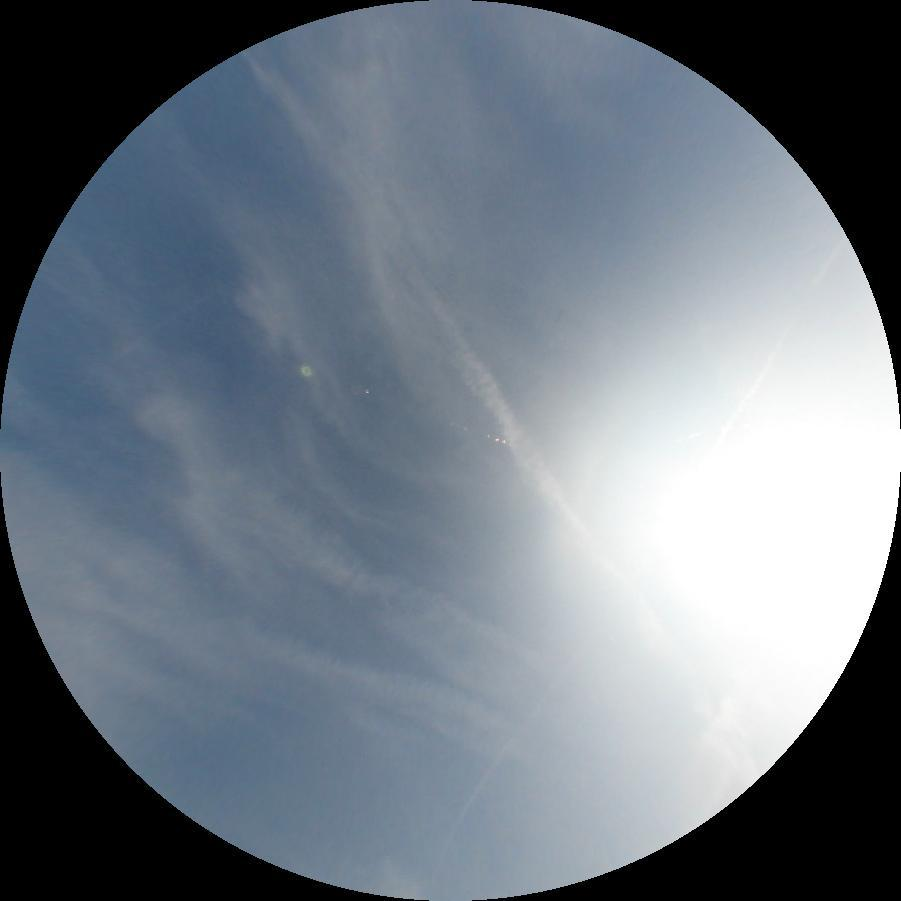contrail old: (422, 234, 856, 875)
contrail veryold: (228, 40, 770, 785), (217, 477, 560, 723), (232, 599, 550, 777)
